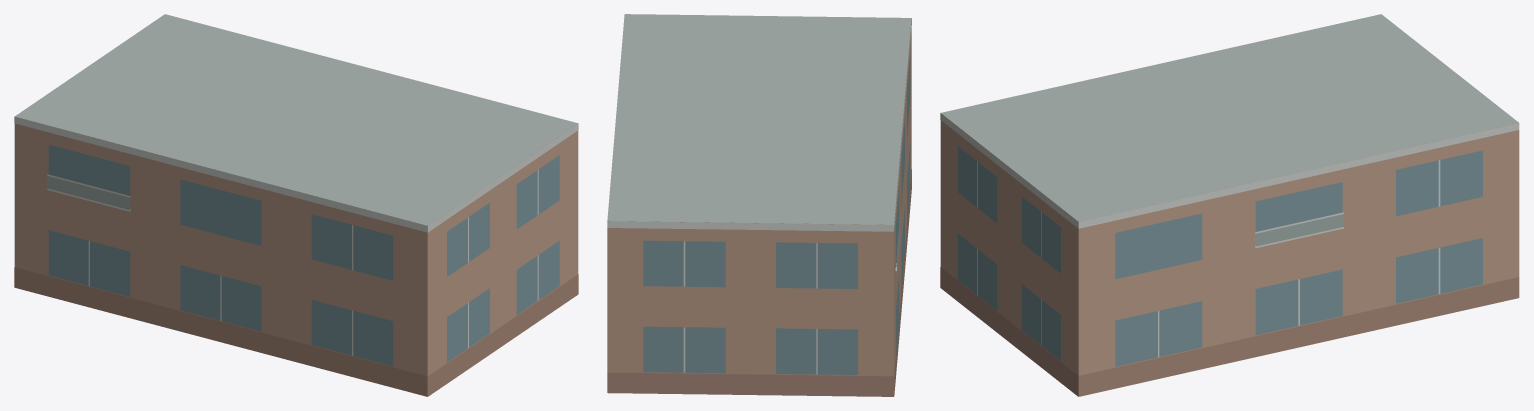
The model's file is survey-upis-32703236.glb.
3 views of the same model, side by side, from view 1: azimuth 30°, elevation 25°; view 2: azimuth 150°, elevation 25°; view 3: azimuth 270°, elevation 25° (orthographic). The views are drawn at different scales.
Parts seen in each view (by area): view 1: survey-upis-32703236.tmp; view 2: survey-upis-32703236.tmp; view 3: survey-upis-32703236.tmp.
Part boxes in pixels (<box>): survey-upis-32703236.tmp: <box>14,14,578,396</box>; survey-upis-32703236.tmp: <box>607,14,911,396</box>; survey-upis-32703236.tmp: <box>940,14,1519,396</box>.
Size of the model in its own units: 15.54 by 6.1 by 18.29.
